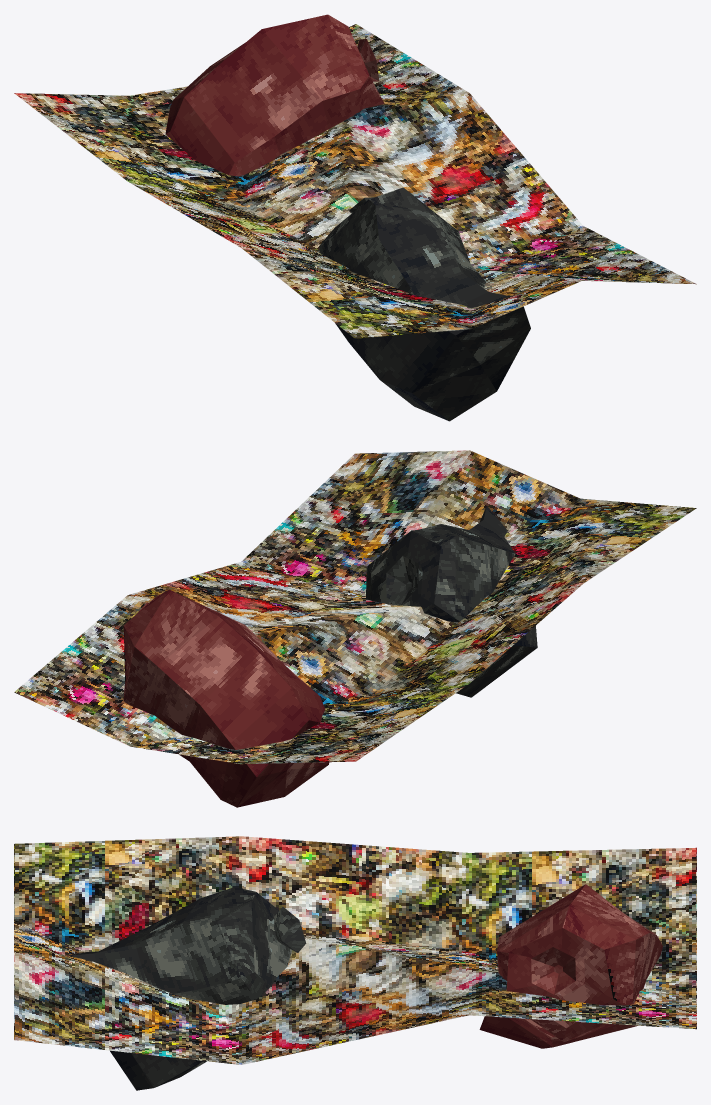
File: dumpster_trashpile_1.glb
The picture shows the model from 3 angles, top to bottom: view 1: azimuth 30°, elevation 25°; view 2: azimuth 150°, elevation 25°; view 3: azimuth 270°, elevation 25°; orthographic projection.
Parts seen in each view (by area): view 1: dumpster_trashpile_1; view 2: dumpster_trashpile_1; view 3: dumpster_trashpile_1.
Part boxes in pixels (bbox=[...]): dumpster_trashpile_1: bbox=[14, 14, 696, 421]; dumpster_trashpile_1: bbox=[14, 450, 696, 807]; dumpster_trashpile_1: bbox=[14, 836, 696, 1090].
Size of the model in its own units: 1.85 by 1.18 by 3.2.
2 materials, 2 textured.
